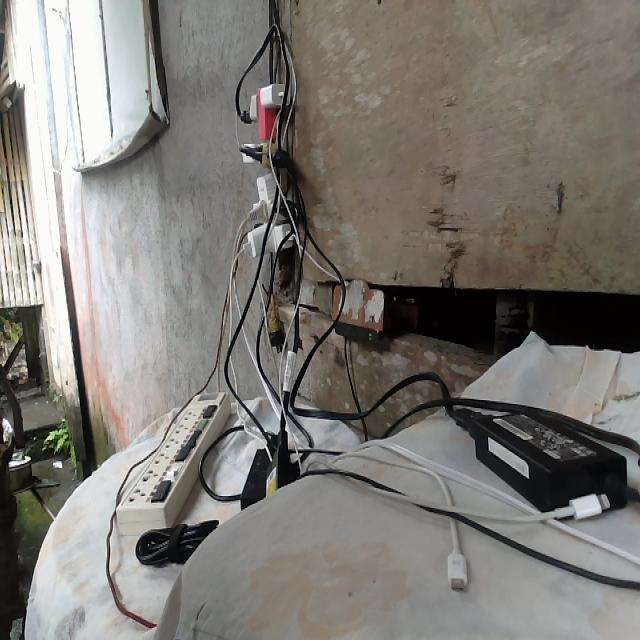-: (237, 84, 299, 255)
